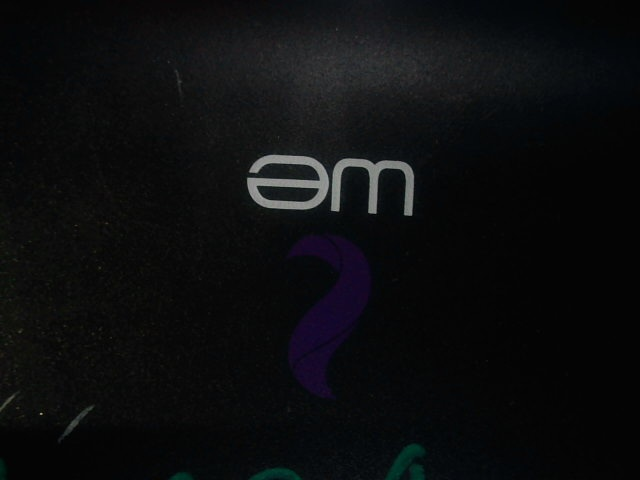AT_We: (235, 153, 421, 399)
